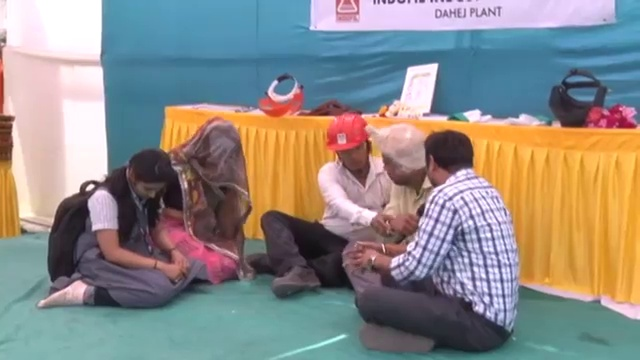helmet: (324, 112, 374, 154)
helmet_off: (419, 132, 480, 194), (122, 150, 180, 204), (379, 123, 423, 191), (189, 123, 245, 176)
helmet_on: (324, 112, 374, 181)
person: (351, 128, 524, 353), (37, 146, 209, 315), (262, 112, 391, 292), (340, 121, 432, 295), (155, 116, 253, 278)
